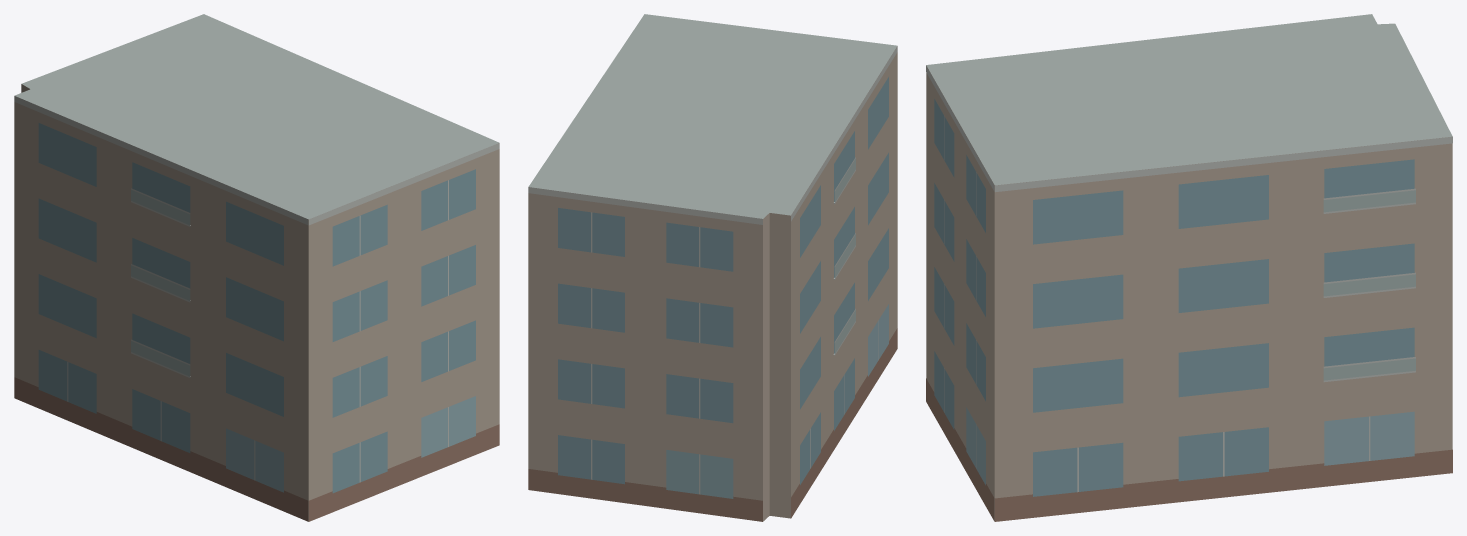
Rendered from survey-upis-32515408.glb.
3 views of the same model, side by side, from view 1: azimuth 30°, elevation 25°; view 2: azimuth 150°, elevation 25°; view 3: azimuth 270°, elevation 25° (orthographic). The views are drawn at different scales.
Parts seen in each view (by area): view 1: survey-upis-32515408.tmp; view 2: survey-upis-32515408.tmp; view 3: survey-upis-32515408.tmp.
Part boxes in pixels (bbox=[...]): survey-upis-32515408.tmp: bbox=[14, 14, 499, 521]; survey-upis-32515408.tmp: bbox=[528, 14, 897, 521]; survey-upis-32515408.tmp: bbox=[926, 14, 1452, 521].
Size of the model in its own units: 13.23 by 12.1 by 17.18.
